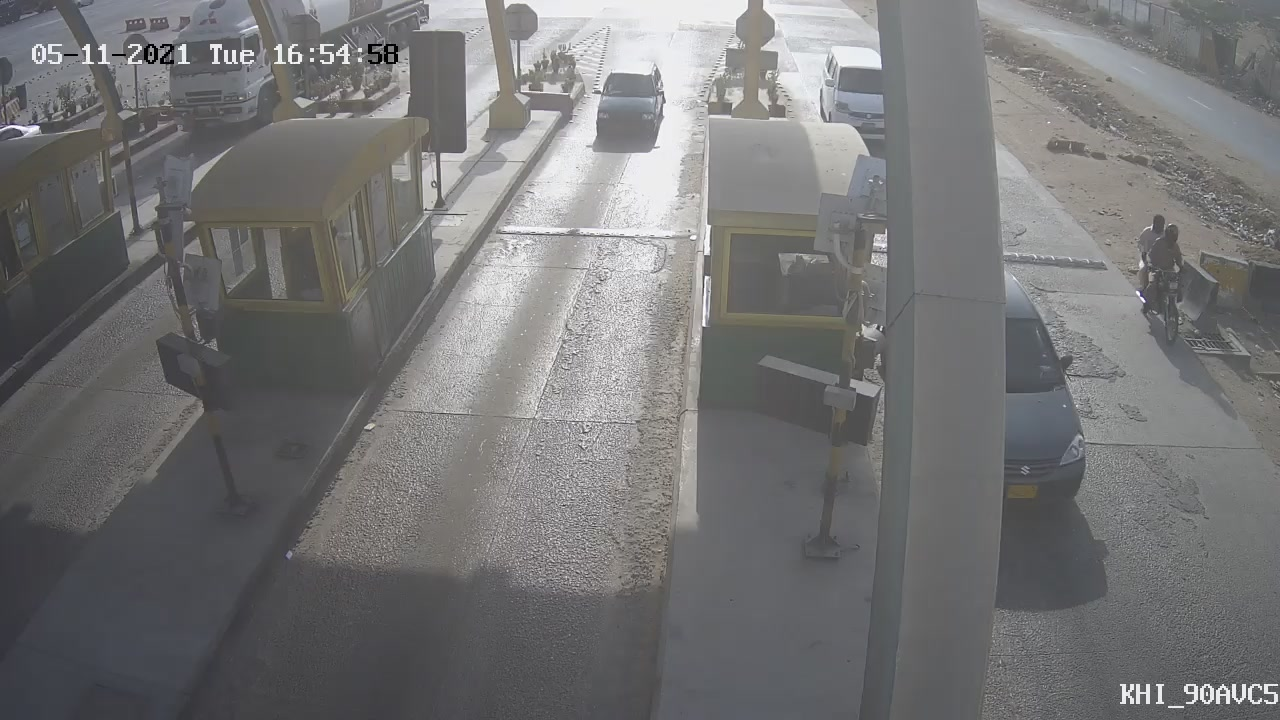F1: (578, 48, 681, 156)
